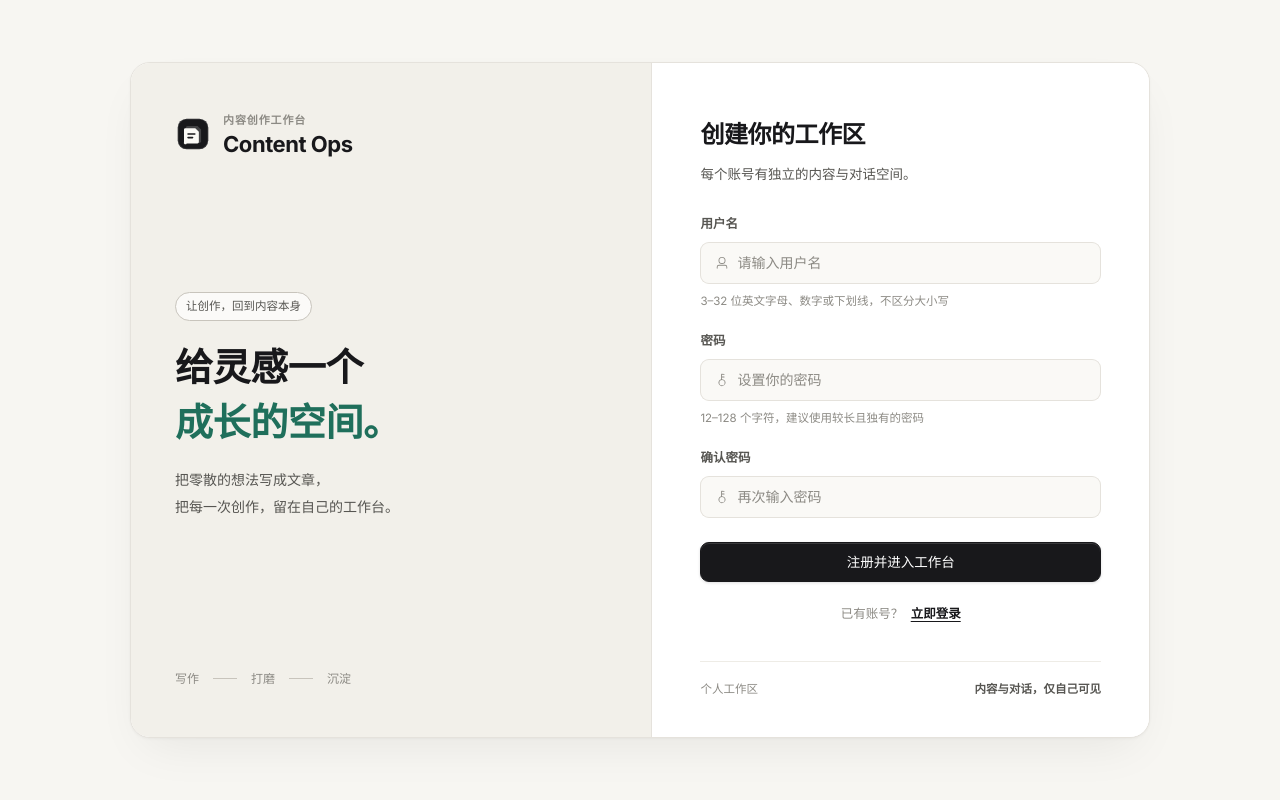
Scenario: account entry › validates registration input for ab
Step 1. Type "ab" into the field labelled "用户名 3–32 位英文字母、数字或下划线，不区分大小写" → (912, 263), box [737,244,1086,282]
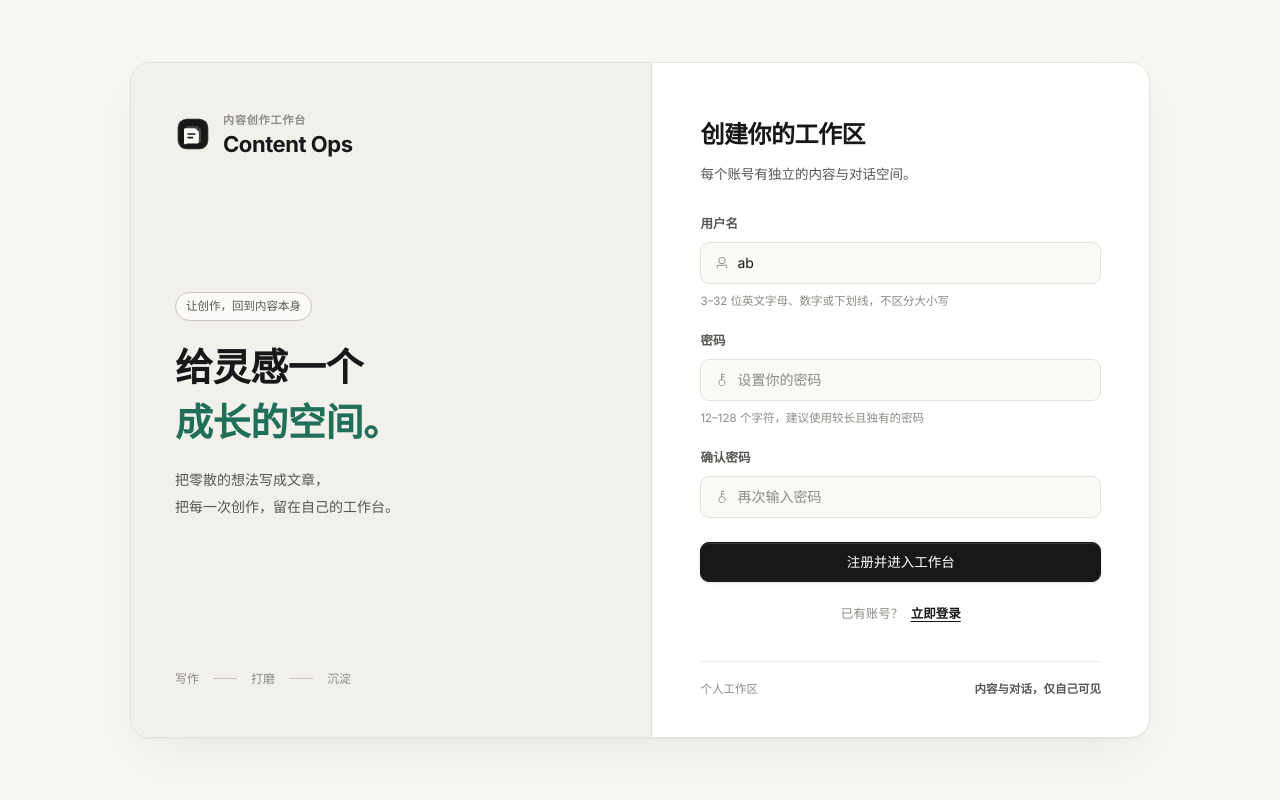
Step 2. Type "a long passphrase" into the password field labelled "密码 12–128 个字符，建议使用较长且独有的密码" → (912, 380), box [737,361,1086,399]
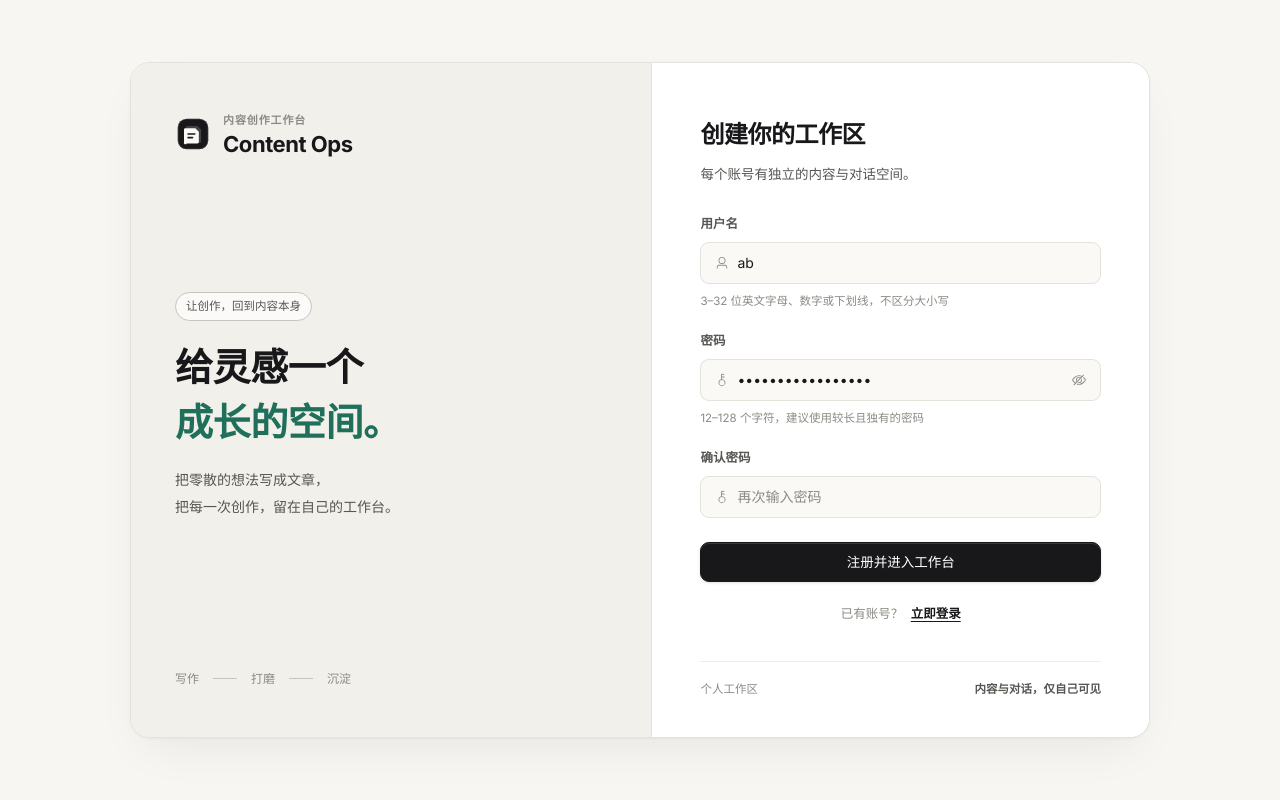
Step 3. Type "a long passphrase" into the password field labelled "确认密码" → (912, 497), box [737,478,1086,516]
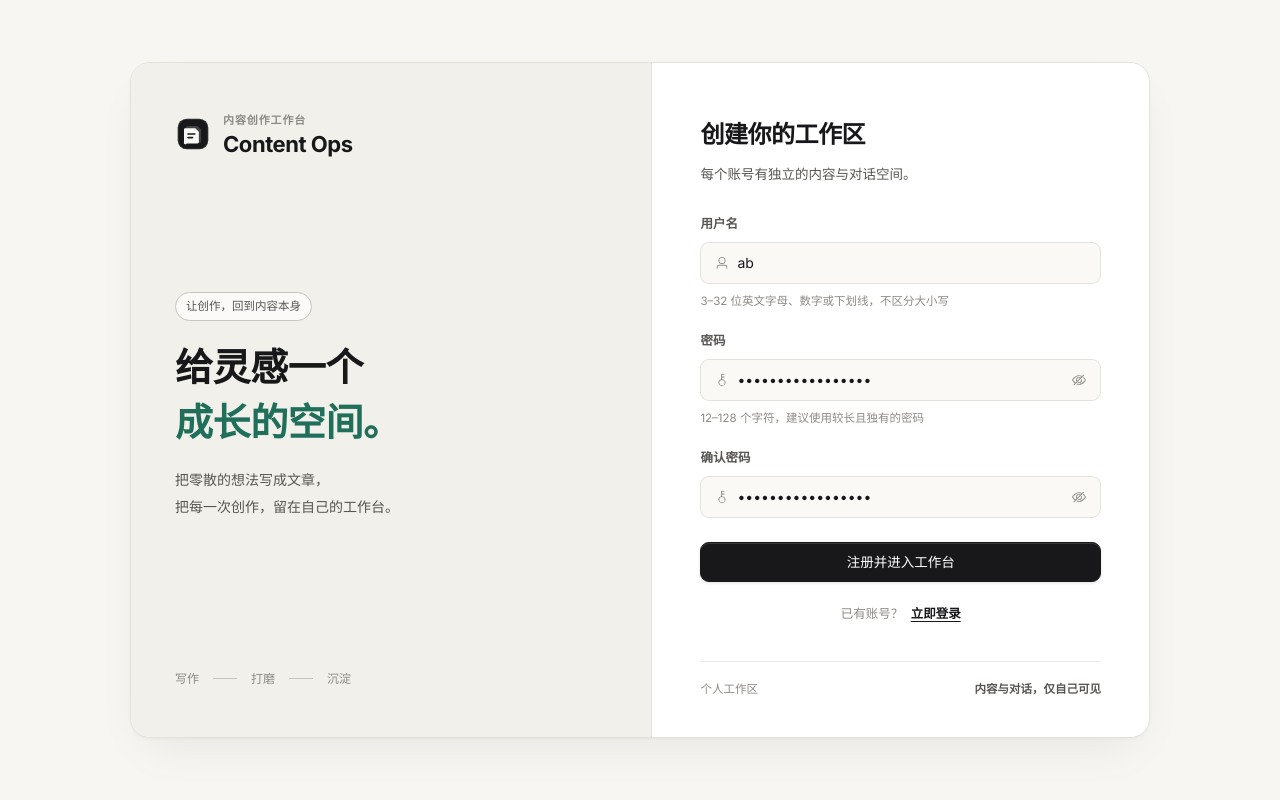
Step 4. Submit the form, box [700,186,1101,582]
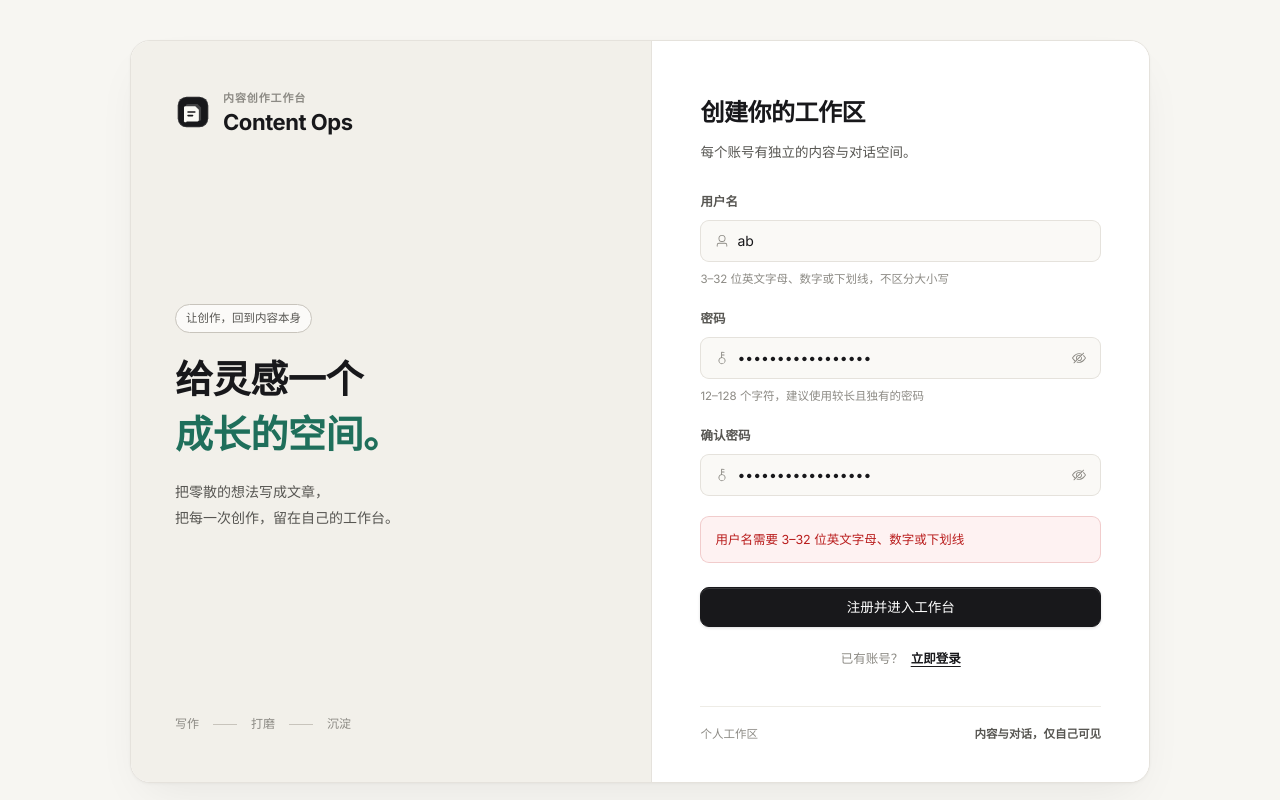
Expected: the message "用户名需要 3–32 位英文字母、数字或下划线" is shown, [700,516,1101,564]
